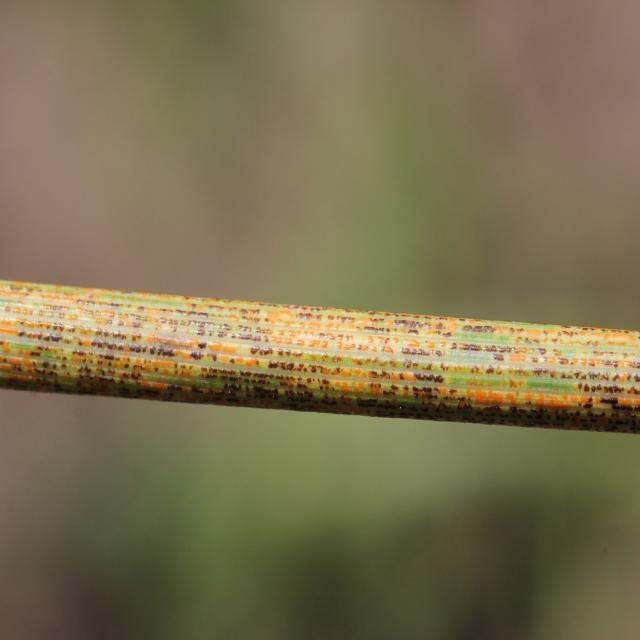Stem Rust: (6, 282, 640, 432)
